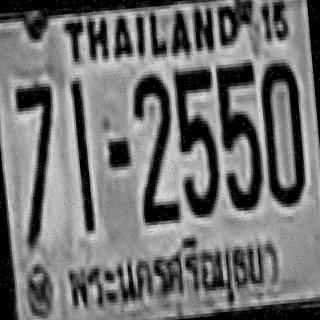N00: (256, 58, 307, 205)
N01: (68, 77, 94, 228)
N02: (130, 70, 179, 222), (130, 70, 178, 210)
N05: (213, 61, 264, 210), (172, 66, 220, 216)
N07: (12, 80, 62, 239), (12, 80, 60, 217), (12, 80, 58, 188)
P03: (57, 221, 280, 320)
